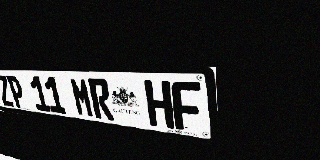1: (42, 76, 66, 114), (28, 76, 51, 112)
F: (171, 81, 203, 133)
H: (144, 80, 175, 129)
M: (69, 77, 95, 118)
P: (6, 75, 27, 109)
R: (87, 78, 114, 121)
Z: (0, 75, 15, 107)
